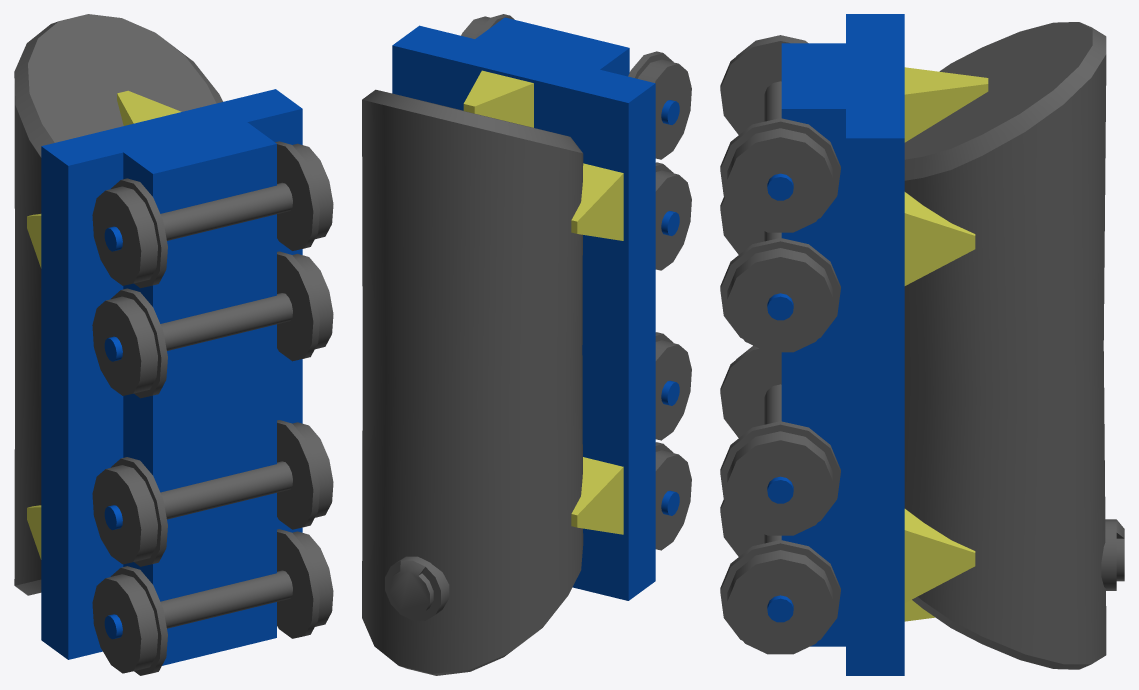
File: train2.fbx
The picture shows the model from 3 angles, left to right: view 1: azimuth 30°, elevation 25°; view 2: azimuth 150°, elevation 25°; view 3: azimuth 270°, elevation 25°; orthographic projection. The views are drawn at different scales.
Visible parts, largest first — view 1: Object001; view 2: Object001; view 3: Object001.
Part boxes in pixels (x1,y1,x2,y2): Object001: (14, 14, 333, 675); Object001: (362, 14, 691, 675); Object001: (720, 14, 1124, 675).
Size of the model in its own units: 3132 by 7239 by 4303.
